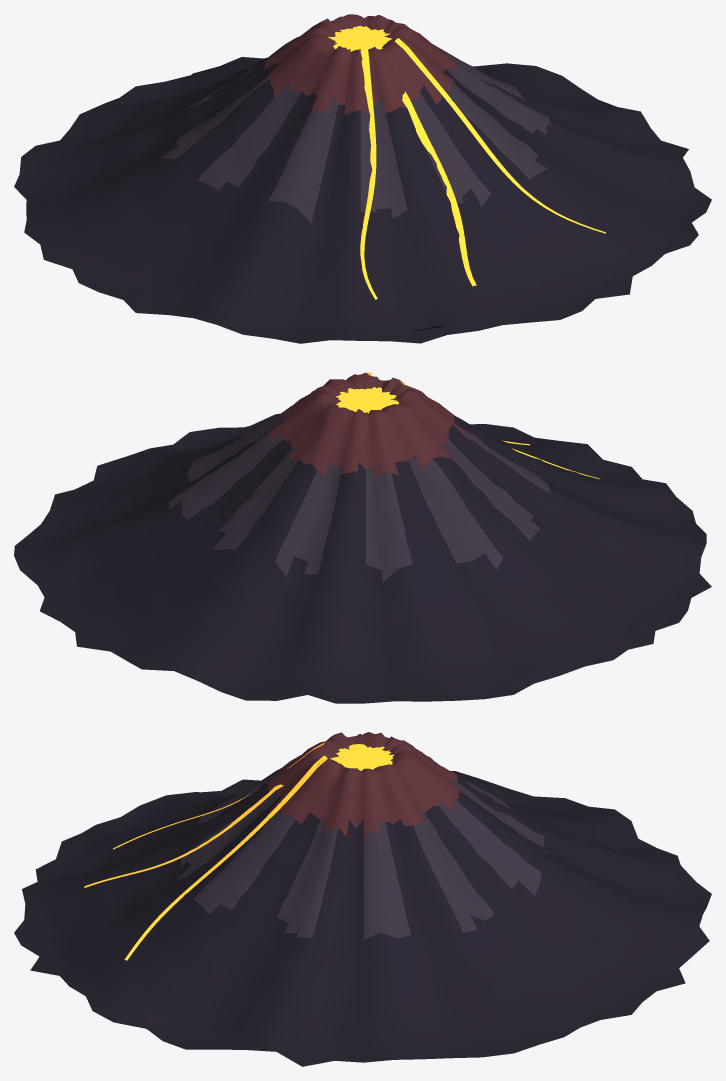
The model's file is lava_volcano.glb.
3 renders of one model, top to bottom at view 1: azimuth 30°, elevation 25°; view 2: azimuth 150°, elevation 25°; view 3: azimuth 270°, elevation 25°, orthographic.
Parts seen in each view (by area): view 1: Volcano.001; view 2: Volcano.001; view 3: Volcano.001.
Part boxes in pixels (<box>): Volcano.001: <box>14,14,711,343</box>; Volcano.001: <box>14,372,711,703</box>; Volcano.001: <box>14,732,711,1066</box>.
Bounding box in the file's own units: 527 × 144 × 526.
